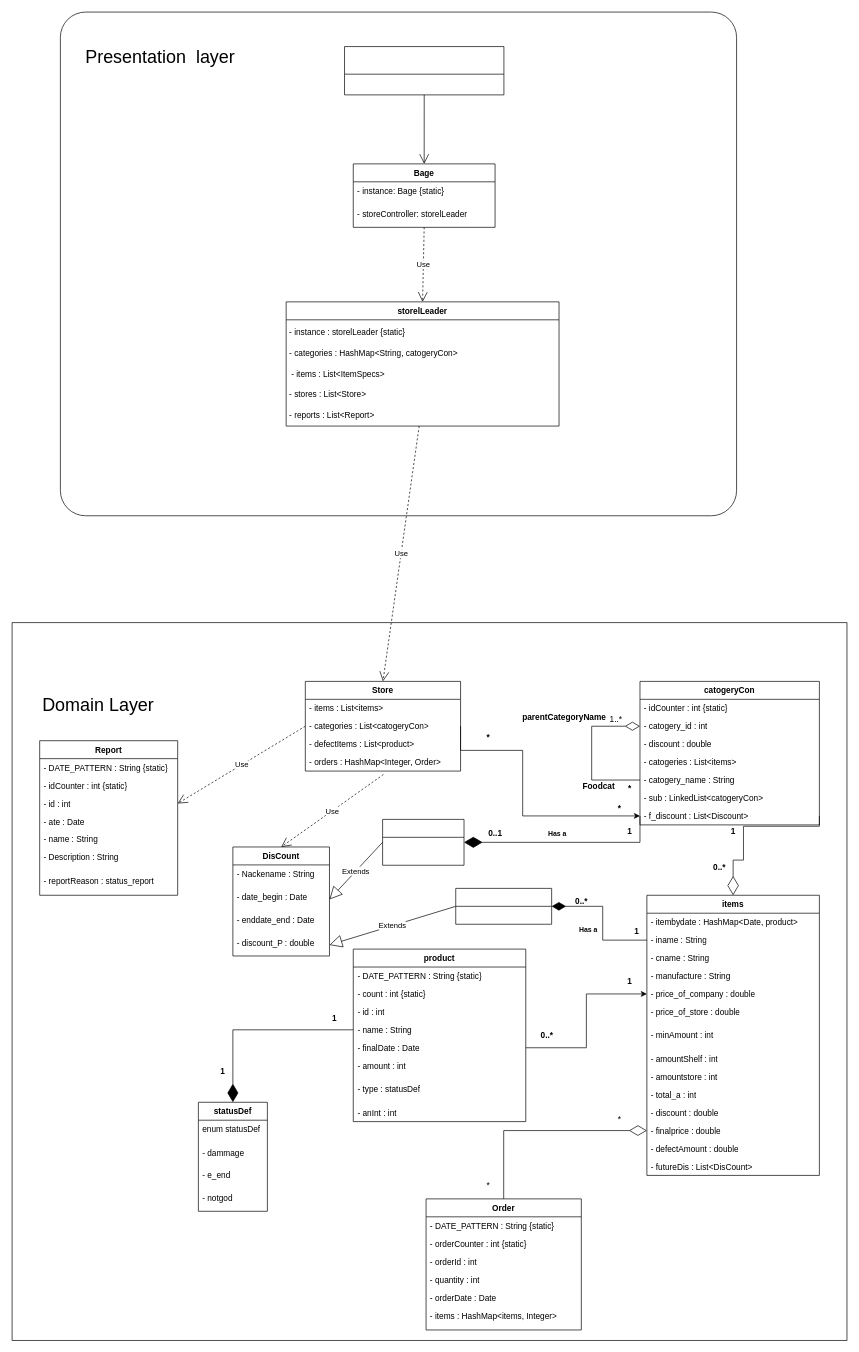
The diagram is 859 pixels wide and 1352 high, and some of its shapes have lost their labels. Each missing label, with the centre of its shape:
"CategoryDiscount" belongs at point (423, 842).
"ItemDiscount" belongs at point (503, 906).
"Main" belongs at point (424, 70).
